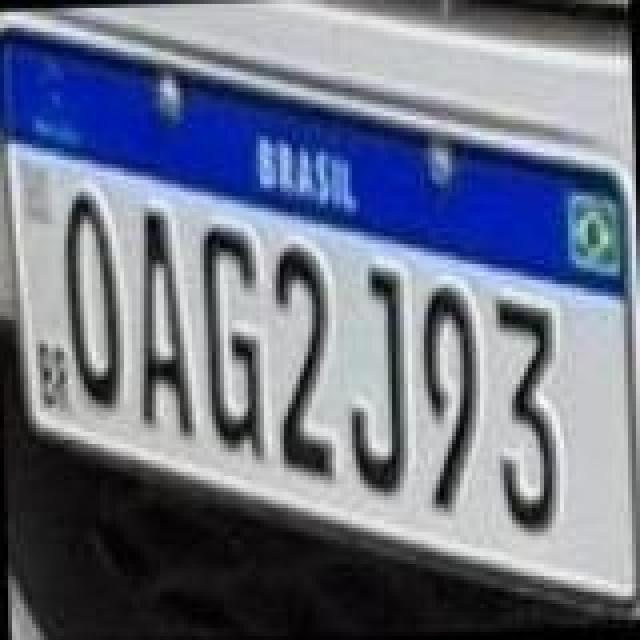2: (270, 242, 338, 490)
3: (490, 288, 566, 536)
9: (420, 276, 492, 520)
A: (134, 206, 202, 442)
G: (196, 220, 268, 464)
J: (340, 264, 412, 500)
O: (62, 184, 130, 408)
